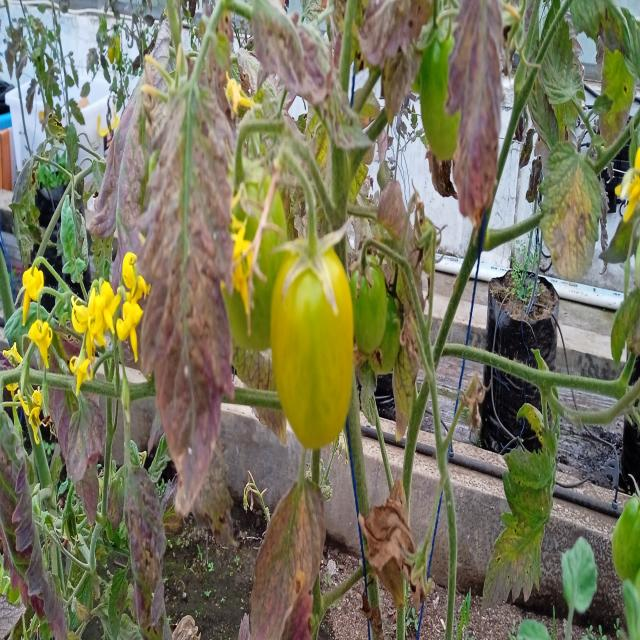fine: (282, 244, 350, 442)
unripe: (226, 160, 285, 362), (406, 37, 478, 186), (341, 243, 401, 359)
